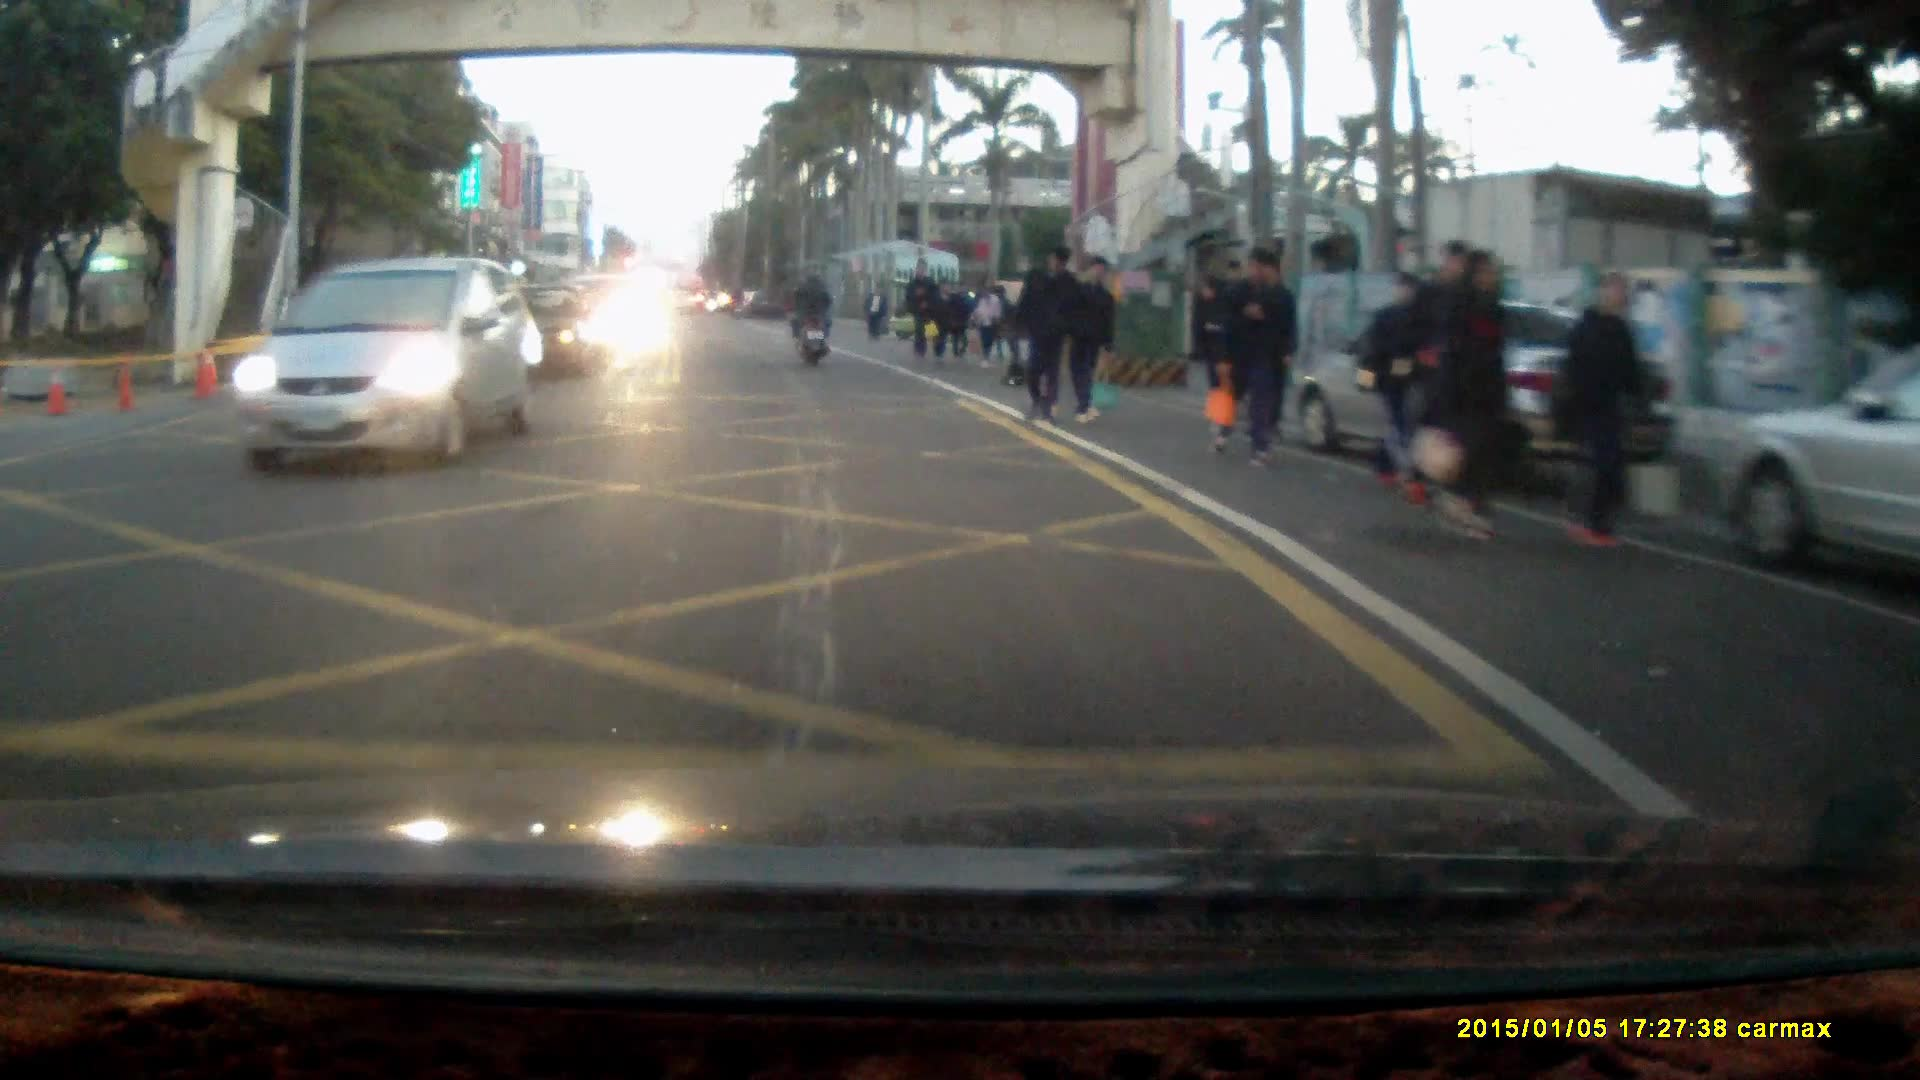pedestrian: (1557, 270, 1654, 552), (1438, 252, 1519, 555), (1399, 235, 1478, 514), (1213, 243, 1287, 468), (1367, 269, 1437, 482), (1019, 247, 1085, 429), (1069, 259, 1127, 434), (1189, 274, 1234, 425), (973, 274, 1011, 371), (903, 259, 936, 361), (928, 275, 964, 358), (864, 280, 889, 346)
rider: (790, 269, 834, 367)
vehicle: (1299, 299, 1682, 489), (225, 255, 544, 482), (1708, 358, 1920, 617)
